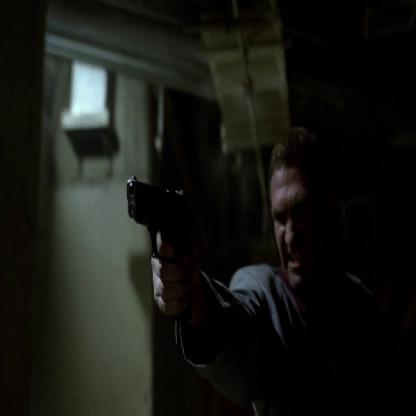Guns: (123, 171, 196, 331)
